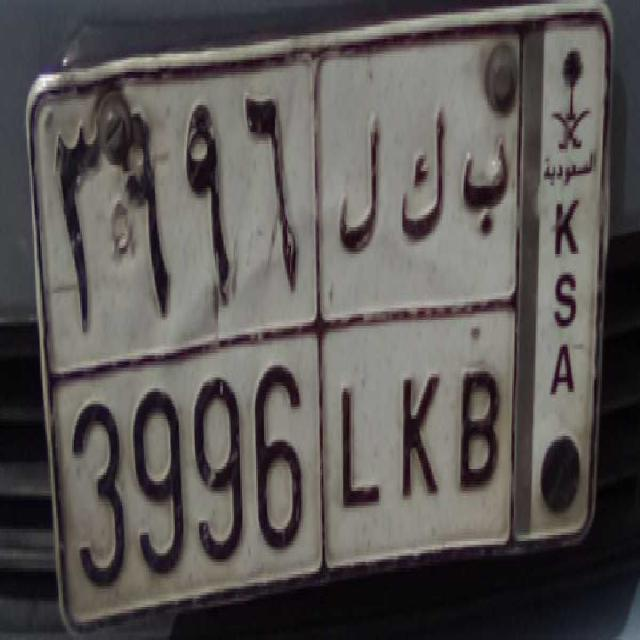license_plate: (64, 332, 514, 610)
